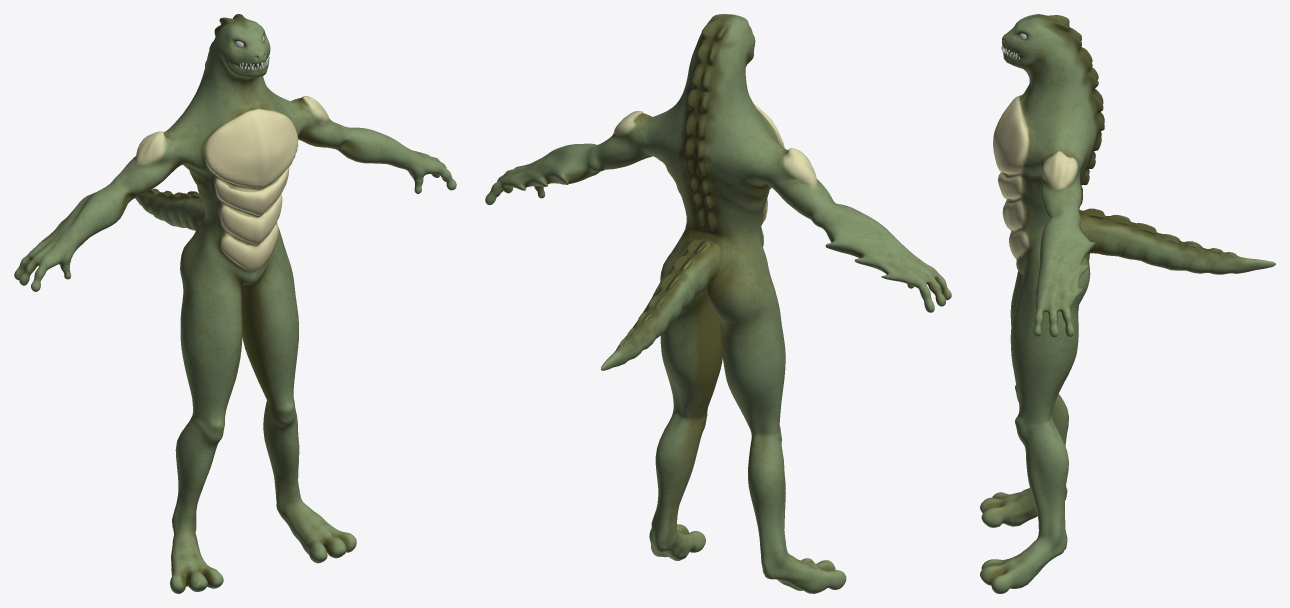
File: EnemyModel v2.fbx
3 views of the same model, side by side, from view 1: azimuth 30°, elevation 25°; view 2: azimuth 150°, elevation 25°; view 3: azimuth 270°, elevation 25° (orthographic). The views are drawn at different scales.
Visible parts, largest first — view 1: LizardManLowp, LizardManLowp.001; view 2: LizardManLowp, LizardManLowp.001; view 3: LizardManLowp, LizardManLowp.001.
Boxes of the visible parts, <box> form: LizardManLowp: <box>14,14,456,593</box>; LizardManLowp.001: <box>135,188,205,230</box>; LizardManLowp: <box>485,14,951,593</box>; LizardManLowp.001: <box>601,238,721,370</box>; LizardManLowp: <box>980,14,1104,593</box>; LizardManLowp.001: <box>1079,208,1275,274</box>.
Size of the model in its own units: 344 by 411 by 205.
